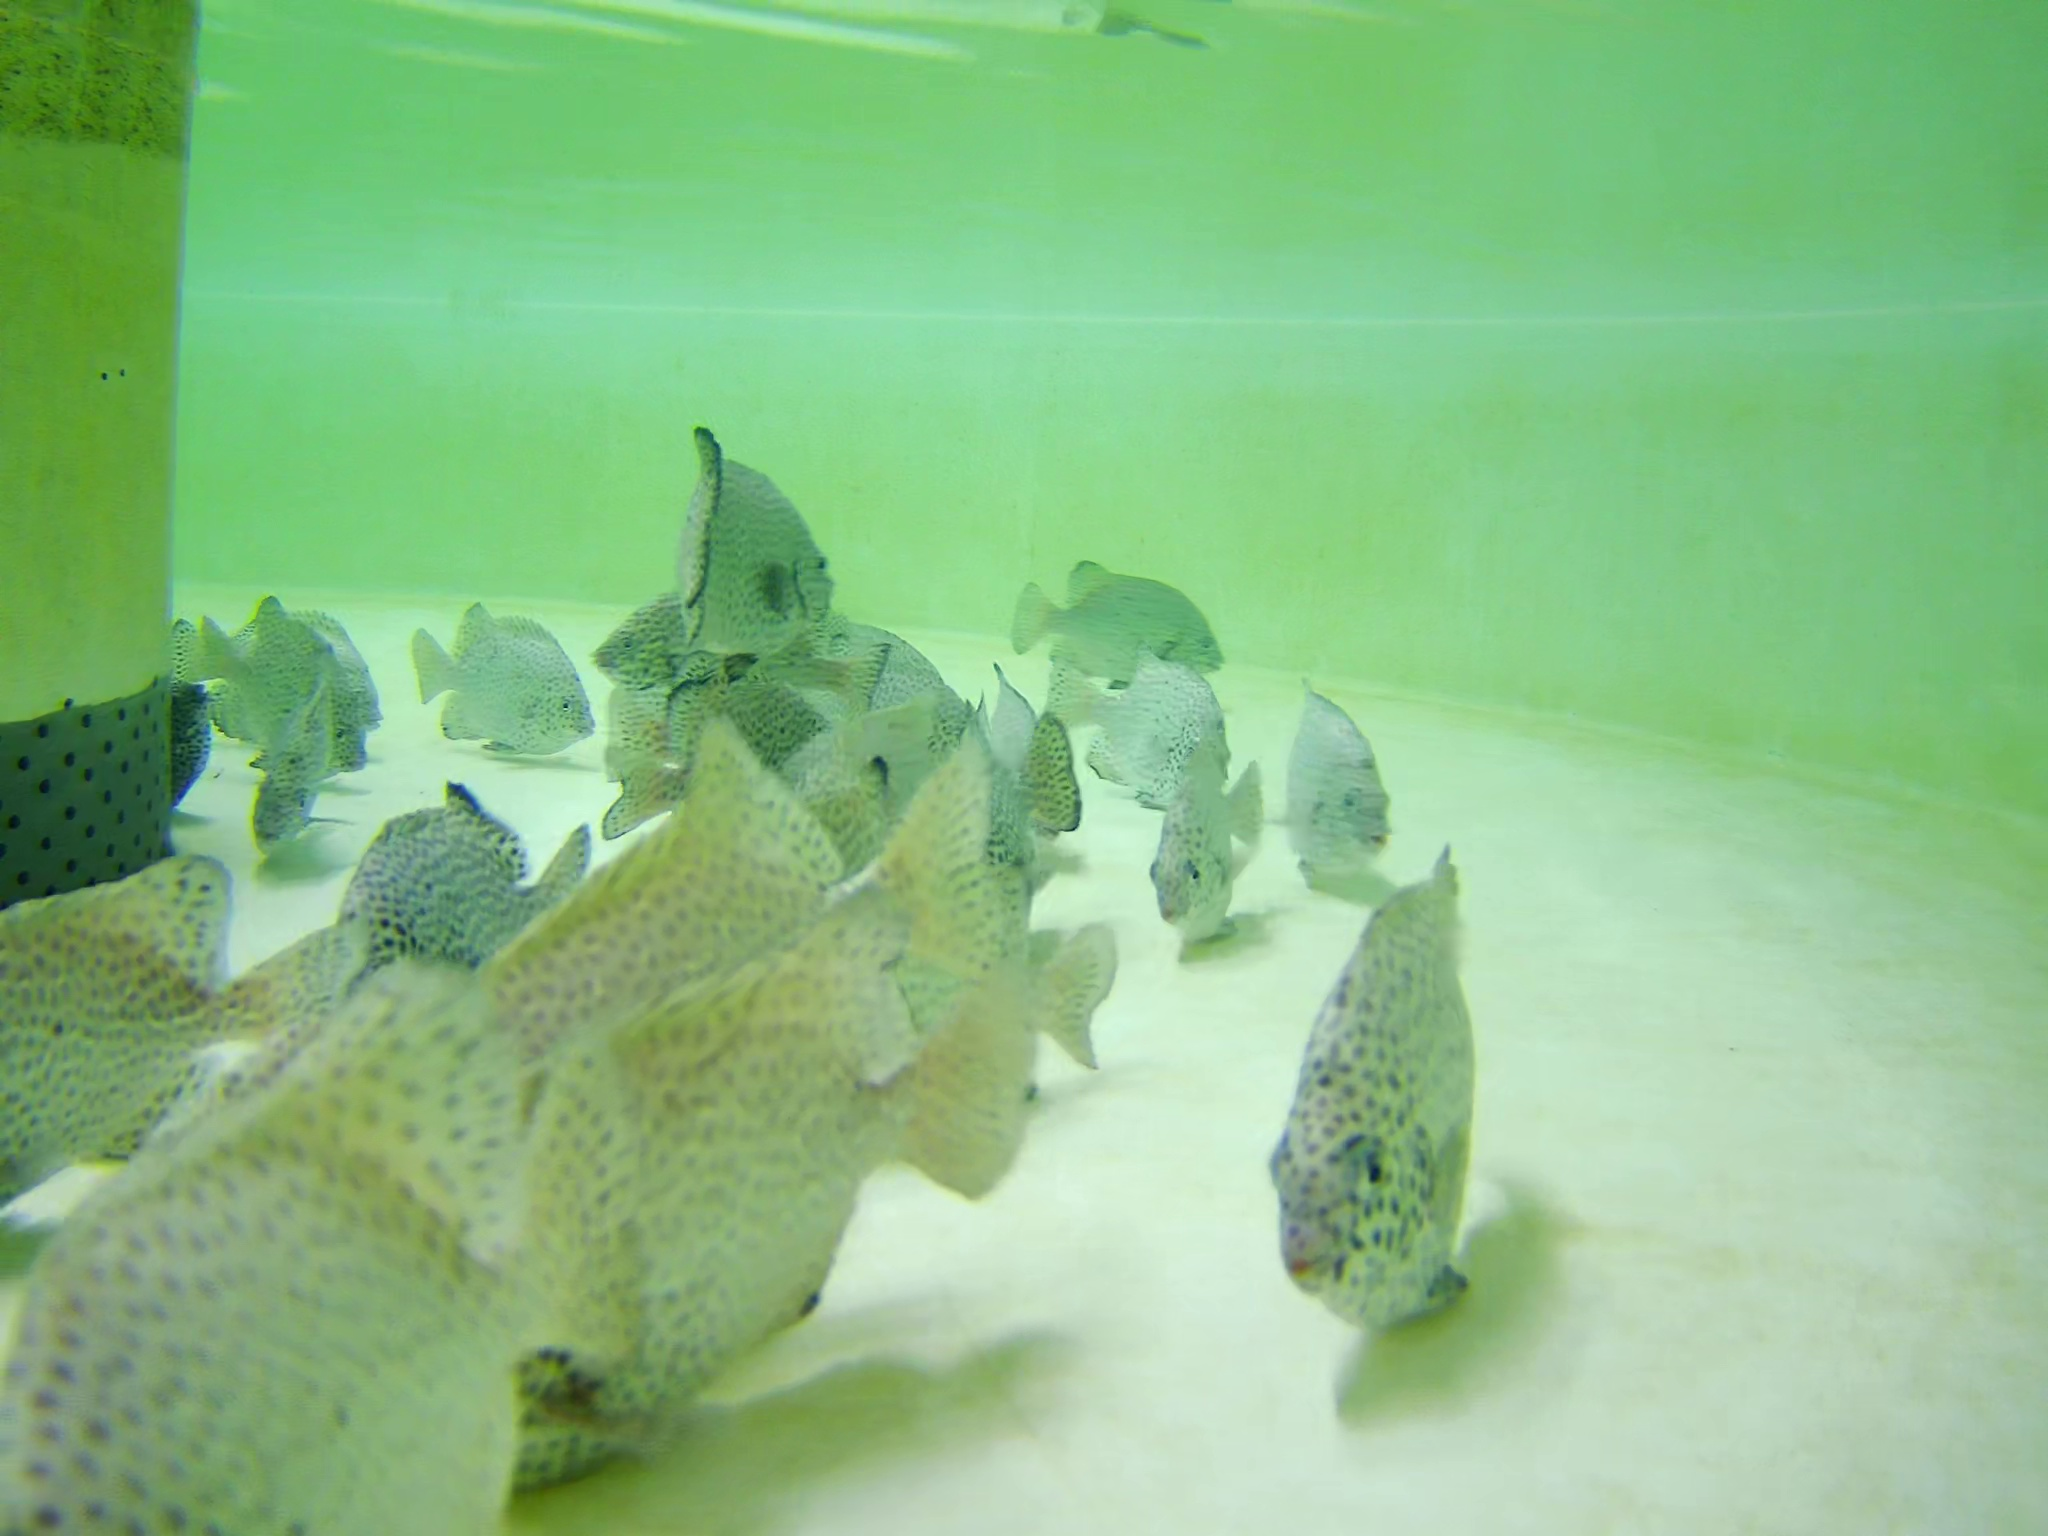fish: (2, 925, 647, 1536), (521, 715, 1008, 1407), (426, 697, 856, 1154), (2, 863, 348, 1196), (1274, 839, 1479, 1320), (337, 794, 592, 978), (674, 436, 837, 658), (572, 678, 853, 805), (1047, 642, 1232, 810), (200, 597, 358, 778), (1150, 702, 1274, 931), (1003, 549, 1227, 674), (410, 602, 587, 758), (177, 599, 379, 733), (593, 589, 850, 681), (1282, 665, 1400, 865), (245, 647, 356, 849)
